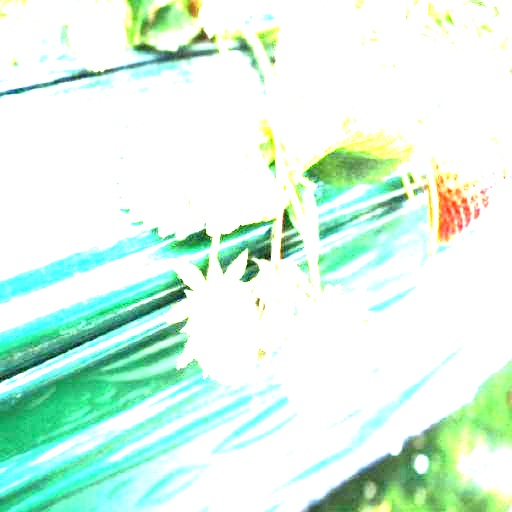Gray Mold: (251, 253, 309, 359)
